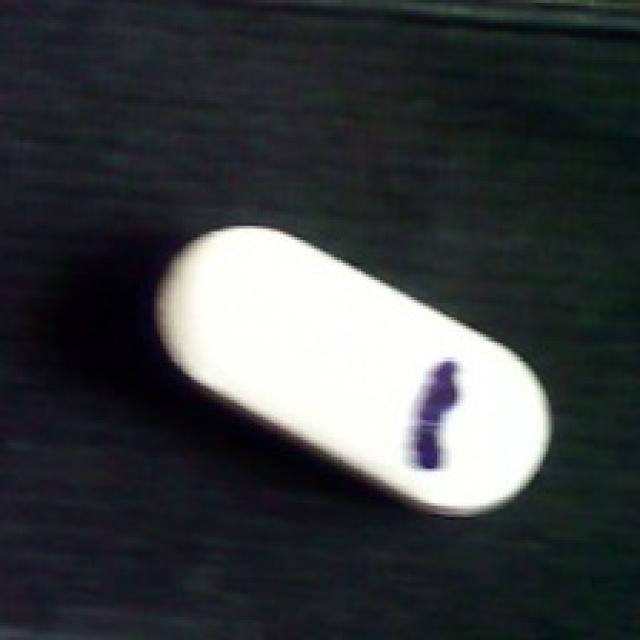defected: (143, 223, 557, 517)
